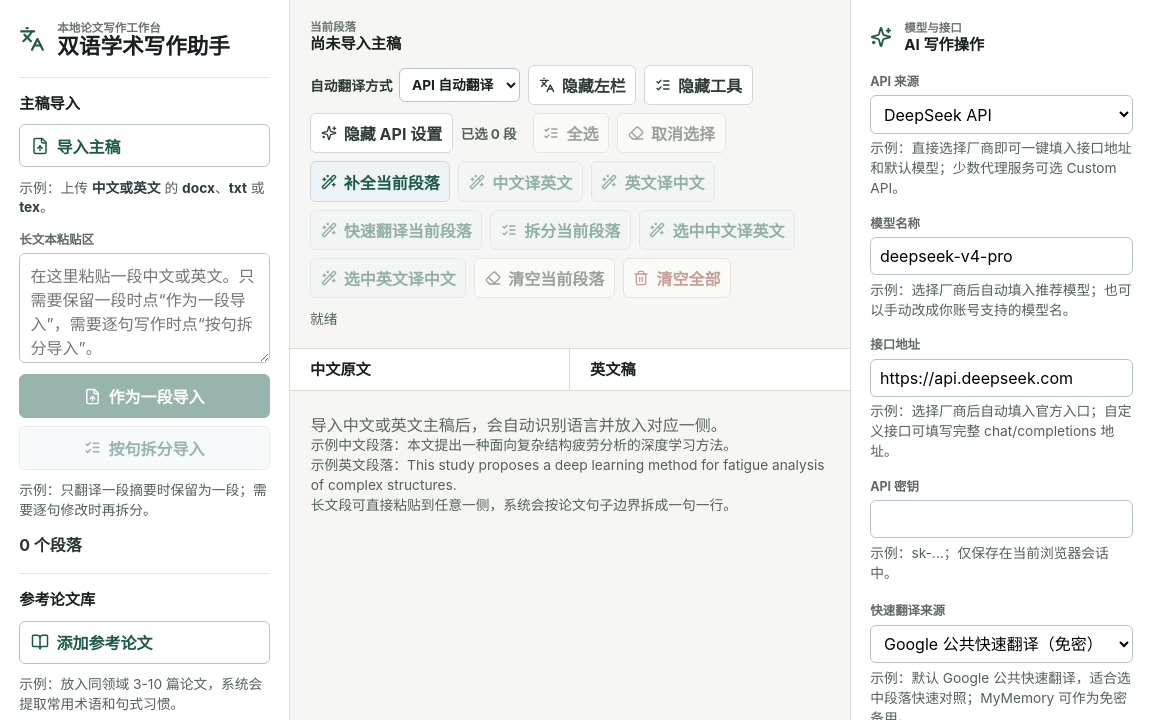
it: App workbench › imports pasted long text as separated sentence rows when requested
This screenshot has width=1152, height=720.
Type "第一句说明研究目标。第二句继续说明方法。第三句给出结果。" into the text box labelled "长文本粘贴区".
click(144, 308); type("第一句说明研究目标。第二句继续说明方法。第三句给出结果。")  # box x1=19 y1=253 x2=270 y2=363
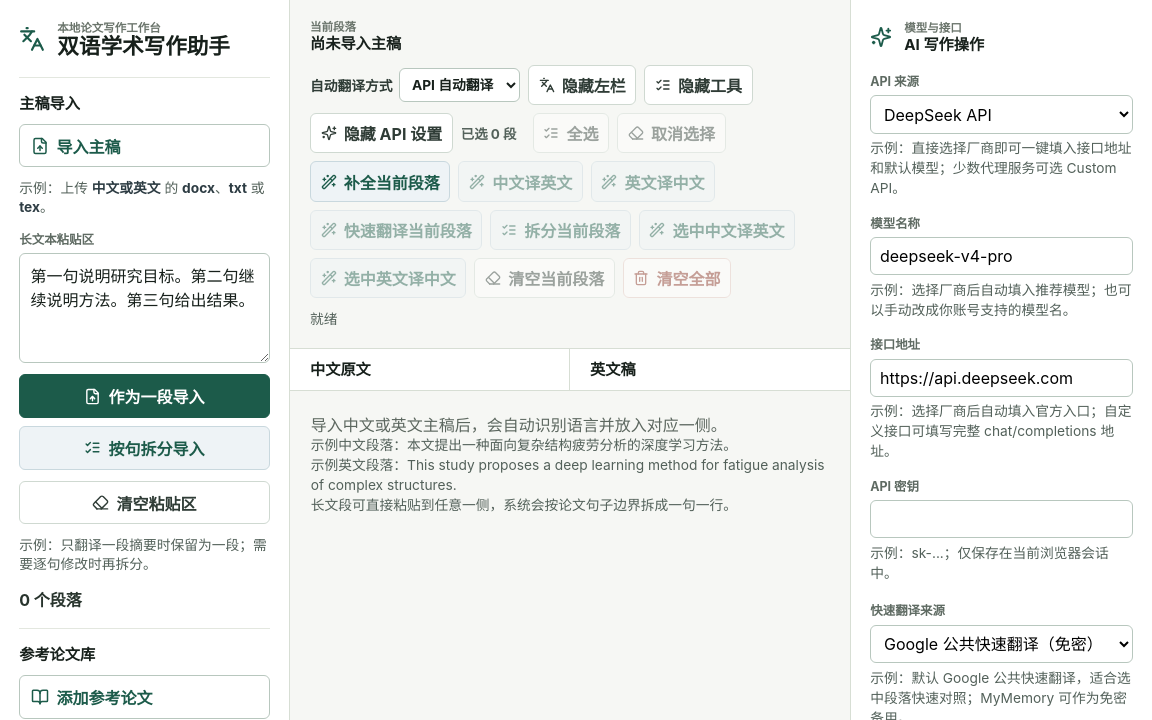
Click the button "按句拆分导入".
click(144, 448)  # box x1=19 y1=426 x2=270 y2=470
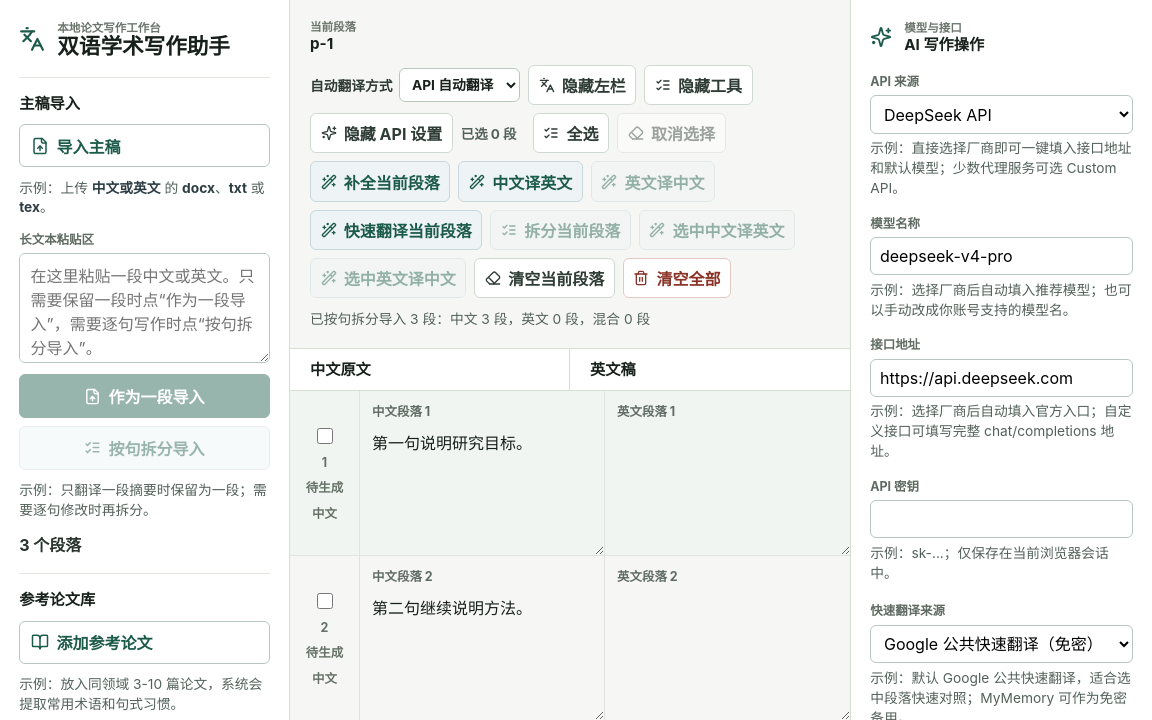
Expected: the text box labelled "中文段落 1" holds "第一句说明研究目标。", x1=360 y1=420 x2=604 y2=555
Expected: the text box labelled "中文段落 2" holds "第二句继续说明方法。", x1=360 y1=585 x2=604 y2=719
Expected: the text "3 个段落" is shown, x1=19 y1=535 x2=81 y2=555
